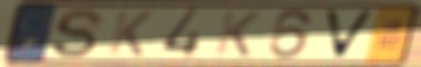4: (158, 6, 203, 60)
6: (267, 8, 313, 61)
K: (212, 10, 263, 59), (105, 9, 156, 58)
S: (48, 7, 107, 59)
V: (322, 9, 378, 61)
